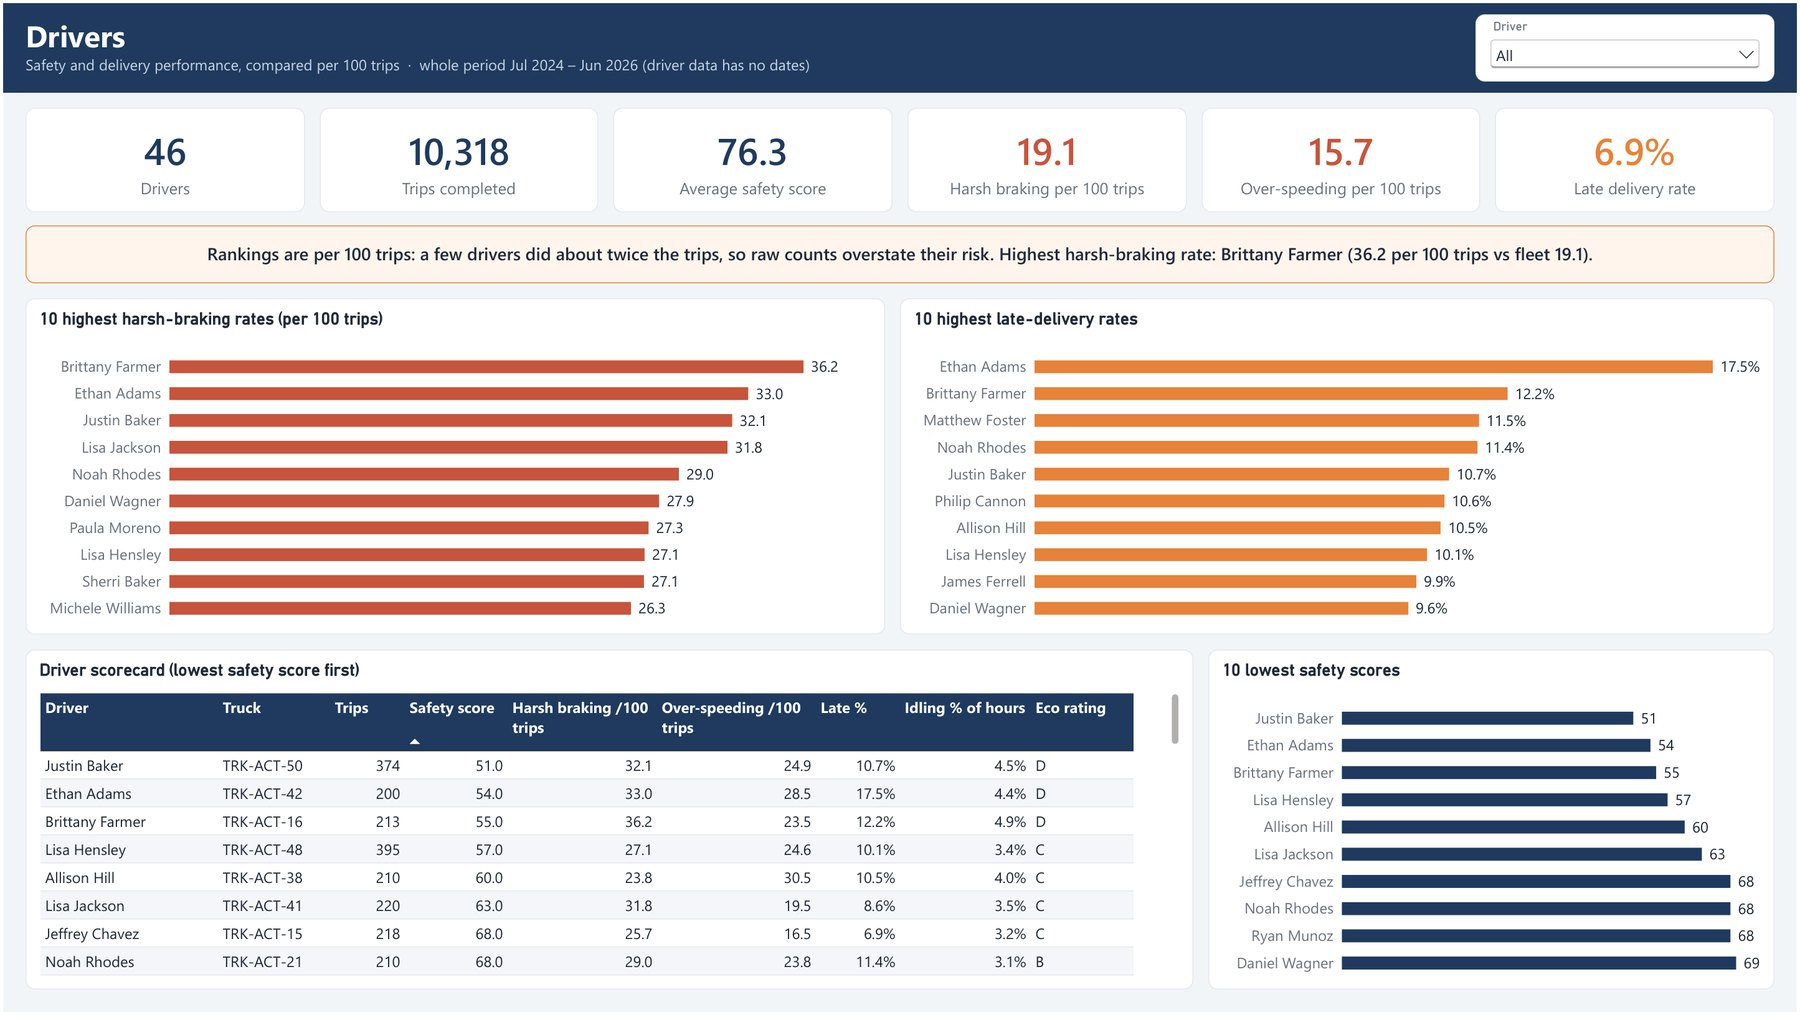

Layout of this report page (visuals, bound fields, positions):
{"tool":"powerbi","page":{"name":"Drivers","canvas":[1920,1080],"ordinal":3},"visuals":[{"type":"textbox","box":[0,0,1920,96],"z":0},{"type":"slicer","fields":{"Values":["DimDriver.Driver Name"]},"box":[1576,12,320,72],"z":101},{"type":"card","fields":{"Values":["_Measures_.Drivers"]},"box":[24,112,298.7,112],"z":1000},{"type":"card","fields":{"Values":["_Measures_.Total Trips"]},"box":[338.7,112,298.7,112],"z":1001},{"type":"card","fields":{"Values":["_Measures_.Average Safety Score"]},"box":[653.3,112,298.7,112],"z":1002},{"type":"card","fields":{"Values":["_Measures_.Harsh Braking per 100 Trips"]},"box":[968,112,298.7,112],"z":1003},{"type":"card","fields":{"Values":["_Measures_.Over-Speeding per 100 Trips"]},"box":[1282.7,112,298.7,112],"z":1004},{"type":"card","fields":{"Values":["_Measures_.Late Delivery Rate"]},"box":[1597.3,112,298.7,112],"z":1005},{"type":"card","fields":{"Values":["_Measures_.Insight - Driver"]},"box":[24,238,1872,62],"z":1100},{"type":"clusteredBarChart","title":"10 highest harsh-braking rates (per 100 trips)","fields":{"Category":["DimDriver.Driver Name"],"Y":["_Measures_.Harsh Braking per 100 Trips"]},"box":[24,316,920,360],"z":2000},{"type":"clusteredBarChart","title":"10 highest late-delivery rates","fields":{"Category":["DimDriver.Driver Name"],"Y":["_Measures_.Late Delivery Rate"]},"box":[960,316,936,360],"z":2001},{"type":"tableEx","title":"Driver scorecard (lowest safety score first)","fields":{"Values":["DriverPerformance.Driver Name","DriverPerformance.Truck ID","_Measures_.Total Trips","_Measures_.Average Safety Score","_Measures_.Harsh Braking per 100 Trips","_Measures_.Over-Speeding per 100 Trips","_Measures_.Late Delivery Rate","_Measures_.Idling % of Hours Driven","DriverPerformance.Fuel ECO Category"]},"box":[24,692,1250,364],"z":2002},{"type":"clusteredBarChart","title":"10 lowest safety scores","fields":{"Category":["DimDriver.Driver Name"],"Y":["_Measures_.Average Safety Score"]},"box":[1290,692,606,364],"z":2003}]}

Visuals, with their boxes in screenshot pixels (x1, y1, x2, y2), scaled from the page's 1920x1080 canvas onto the 1800x1015 screenshot:
textbox: (0, 0, 1799, 90)
slicer - DimDriver.Driver Name: (1478, 11, 1778, 79)
card - _Measures_.Drivers: (22, 105, 303, 211)
card - _Measures_.Total Trips: (318, 105, 598, 211)
card - _Measures_.Average Safety Score: (612, 105, 892, 211)
card - _Measures_.Harsh Braking per 100 Trips: (908, 105, 1188, 211)
card - _Measures_.Over-Speeding per 100 Trips: (1203, 105, 1483, 211)
card - _Measures_.Late Delivery Rate: (1497, 105, 1778, 211)
card - _Measures_.Insight - Driver: (22, 224, 1778, 282)
"10 highest harsh-braking rates (per 100 trips)" clusteredBarChart: (22, 297, 885, 635)
"10 highest late-delivery rates" clusteredBarChart: (900, 297, 1778, 635)
"Driver scorecard (lowest safety score first)" tableEx: (22, 650, 1194, 992)
"10 lowest safety scores" clusteredBarChart: (1209, 650, 1778, 992)
